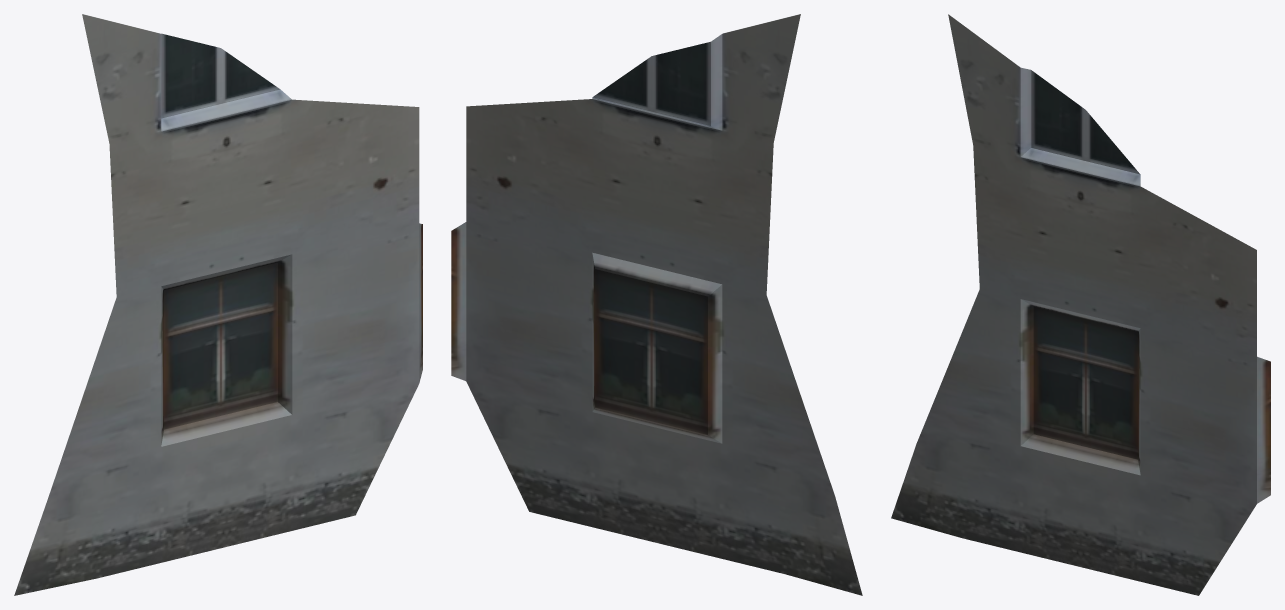
File: House_03_01.fbx
3 views of the same model, side by side, from view 1: azimuth 30°, elevation 25°; view 2: azimuth 150°, elevation 25°; view 3: azimuth 330°, elevation 25° (orthographic). The views are drawn at different scales.
Visible parts, largest first — view 1: Дом2.001; view 2: Дом2.001; view 3: Дом2.001.
Boxes of the visible parts, <box> form: Дом2.001: <box>14,14,422,595</box>; Дом2.001: <box>451,14,862,595</box>; Дом2.001: <box>891,14,1270,595</box>.
Bounding box in the file's own units: 7.77 × 10.25 × 0.1868.
Materials: 1 (1 with a texture image).
